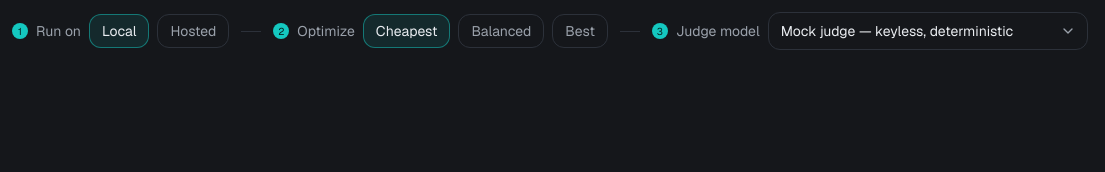
Test case: JudgeFilter › shows KeyEntry for an unavailable cloud provider after switching to Hosted
Click the button "Hosted": x=193, y=31 [157,14,229,48]
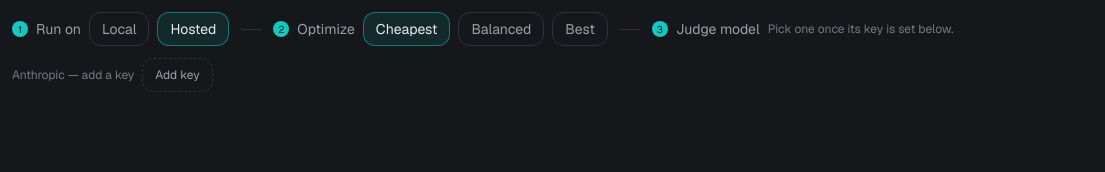
Now the text "Anthropic — add a key" is shown, box [12,67,134,83]
